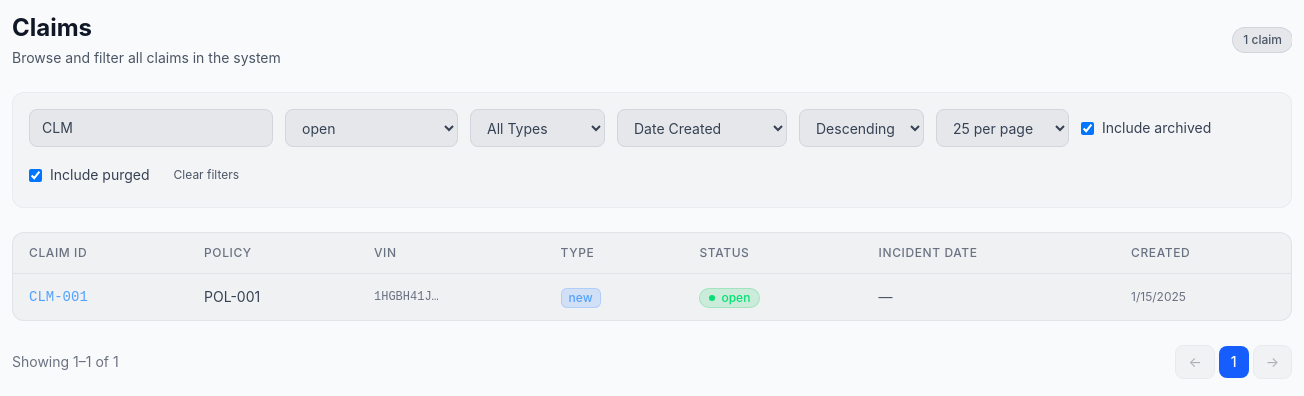
Test: ClaimsList › clear filters resets all controls including archived and purged
Expected: the checkbox labelled "Include archived" is checked, [1081,122,1094,134]
Expected: the checkbox labelled "Include purged" is checked, [29,168,42,182]
Click the button "Clear filters" at (206, 175), box [162,159,251,191]
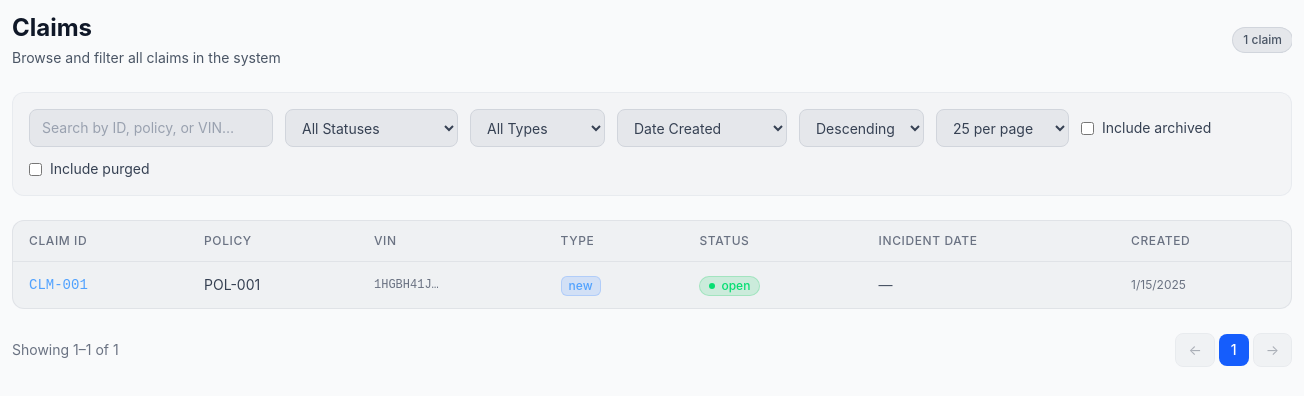
Now the checkbox labelled "Include archived" is not checked, box [1081,122,1094,134]
Now the checkbox labelled "Include purged" is not checked, box [29,162,42,176]
Now the search field named "search claims" is empty, box [29,109,273,147]
